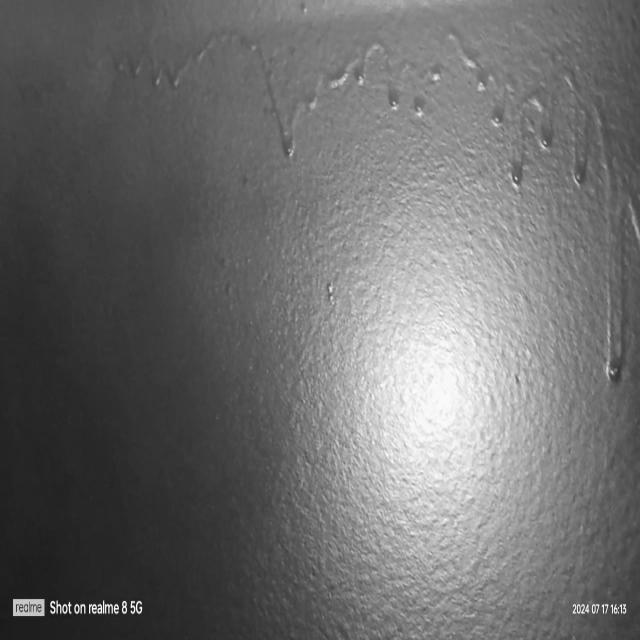paint drips: (82, 16, 640, 391)
